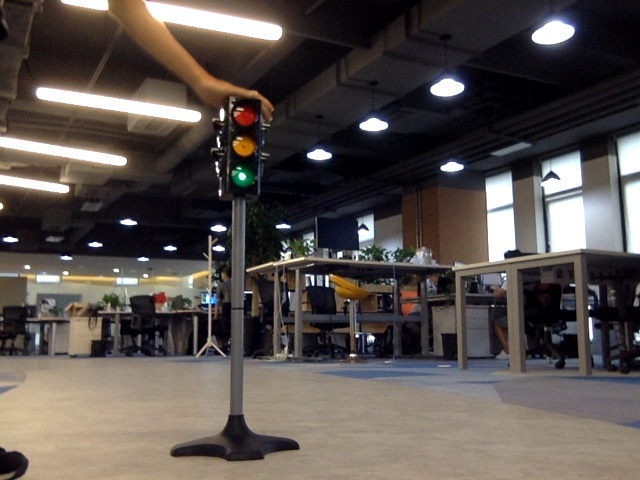green: (227, 104, 256, 193)
